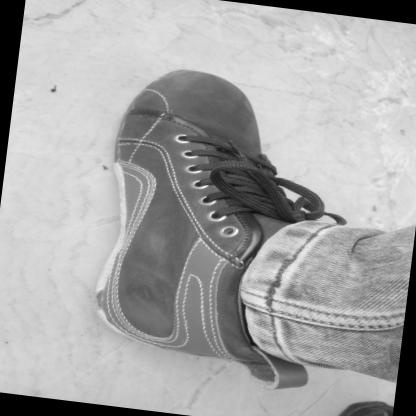ankle: (224, 296, 238, 307)
heel: (105, 312, 122, 325)
left_foot: (89, 62, 322, 368)
pinky: (243, 118, 256, 125)
toe: (166, 76, 181, 86)
